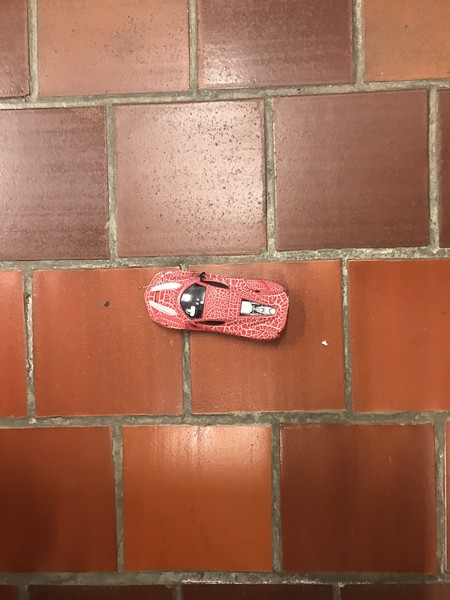RC: (142, 267, 291, 345)
